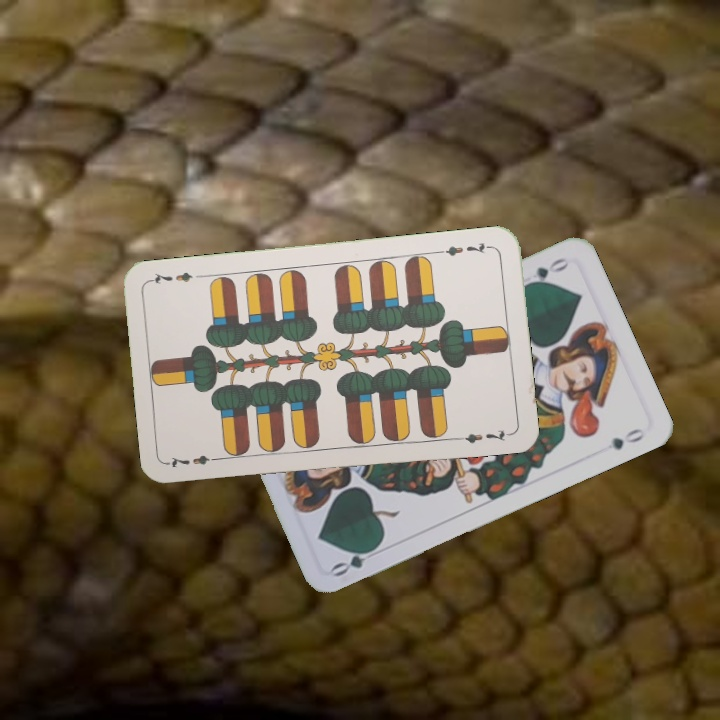E7: (436, 238, 495, 259), (165, 450, 224, 470)
GO: (327, 540, 385, 580), (519, 253, 573, 290)
